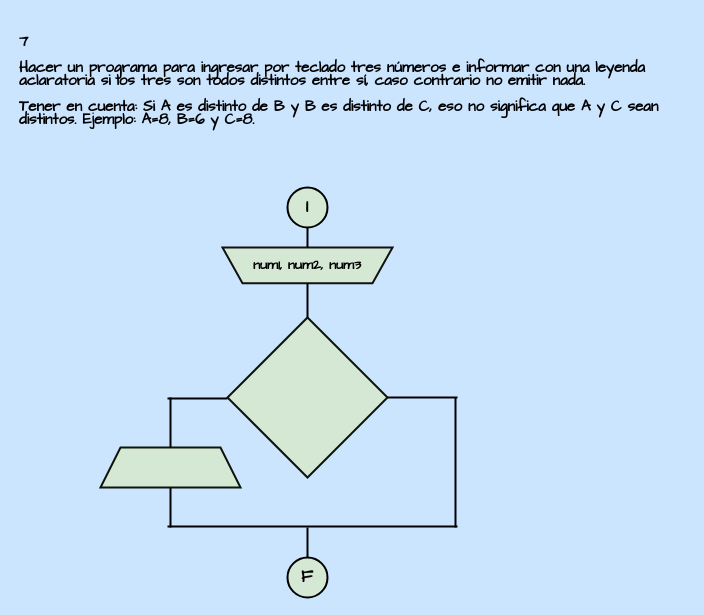
Some shapes in this 704 by 615 pixel diagram are drawn without their labels. The centre of each missing label's shape, as x and y in pixels:
num1 != num2 && num2 != num3 && num1 != num3: the point at 307,397
son_distintos: the point at 170,467
